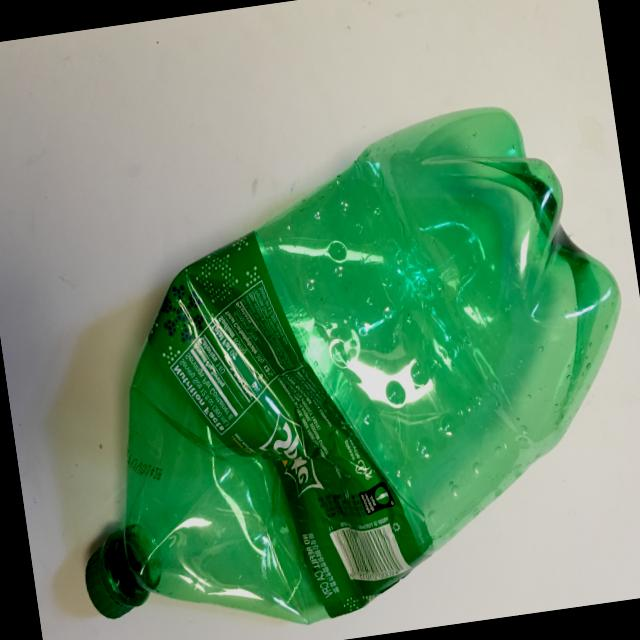Plastic: (6, 78, 640, 640)
